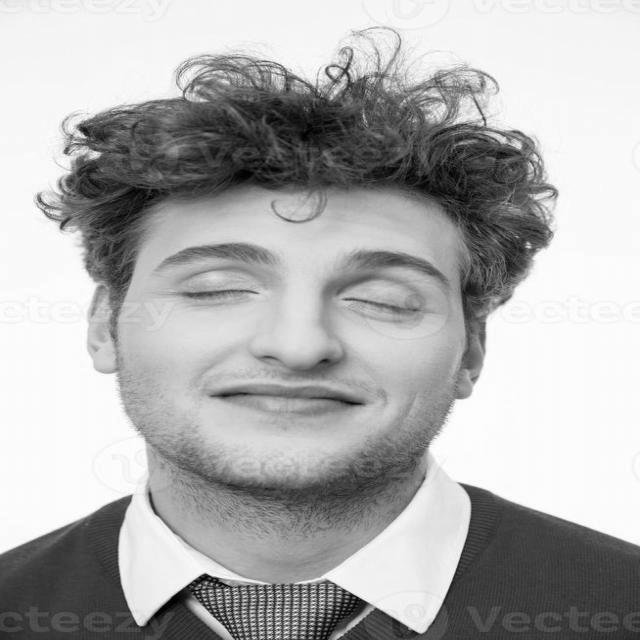real: (81, 106, 487, 489), (134, 236, 457, 333)
